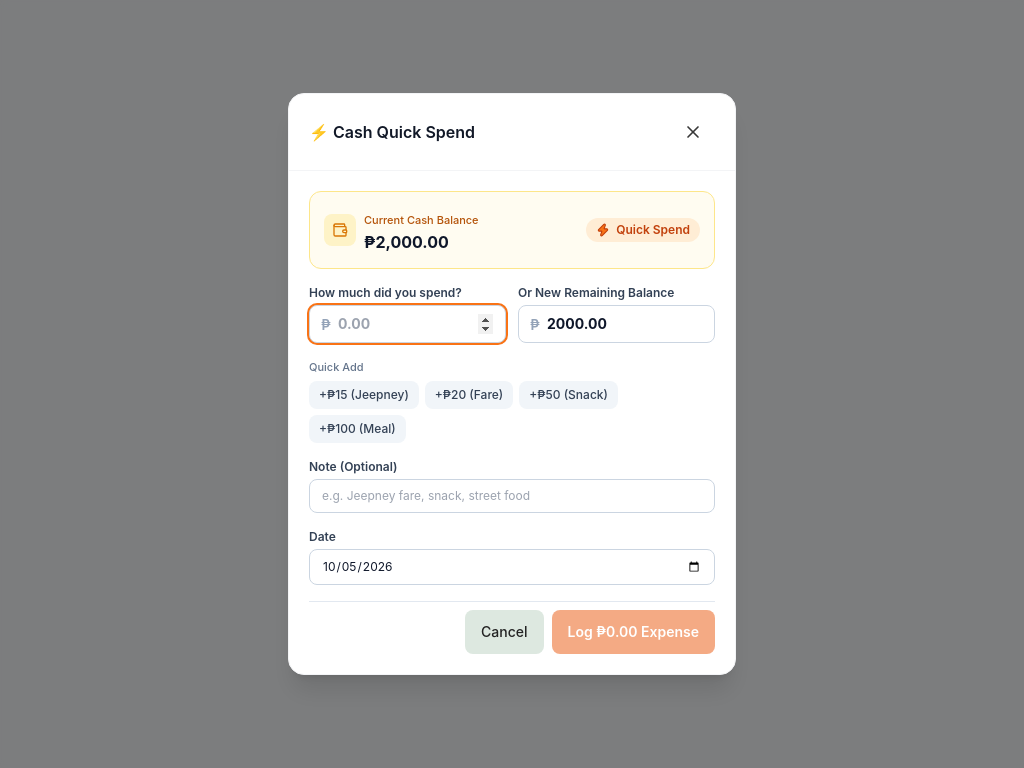
Scenario: CashQuickSpendModal › clicking a quick amount chip adds to spent
Click the button "+₱15 (Jeepney)": (364, 395) left=309, top=381, right=419, bottom=409
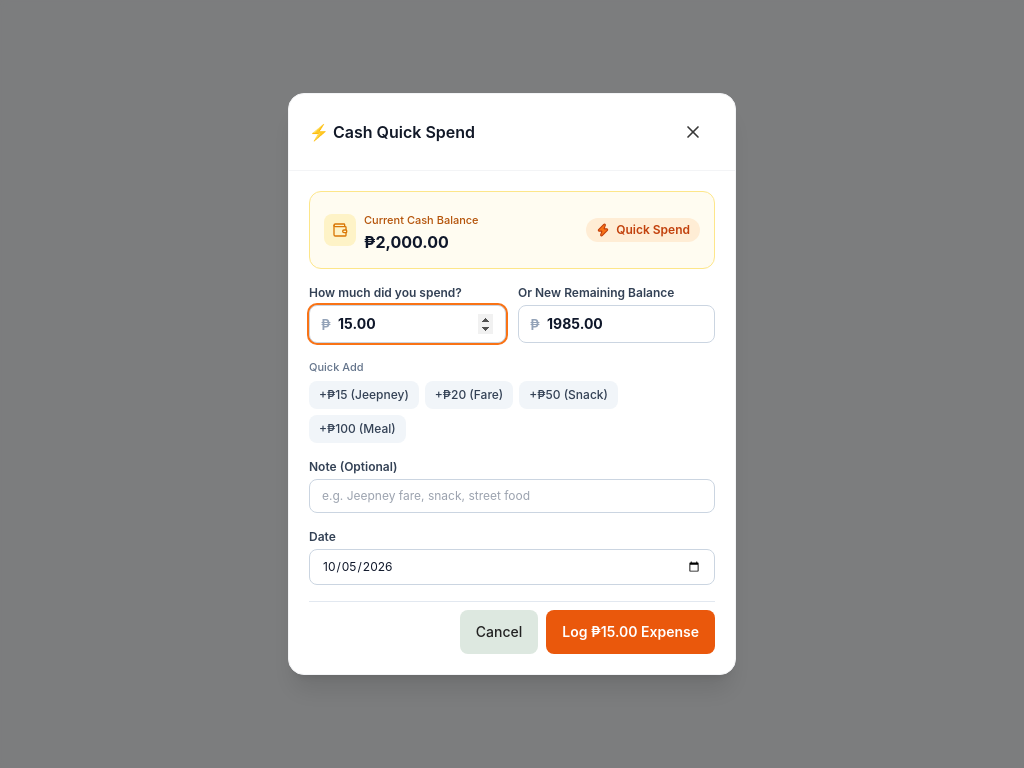
Check: the number field labelled "How much did you spend?" holds "15.00", box left=309, top=305, right=506, bottom=343
